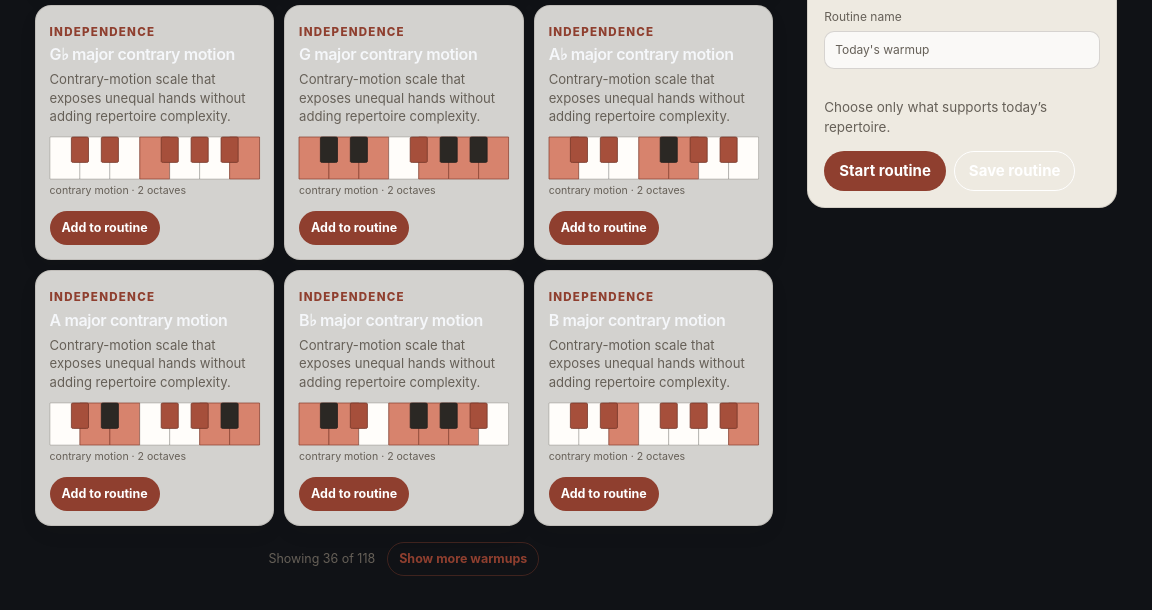
Test: WarmupsWorkspace › makes the complete catalog reachable without rendering every card at once
The image size is (1152, 610).
(page scrolled)
Click the button "Show more warmups": x=463, y=559 [387,542,539,576]
(page scrolled)
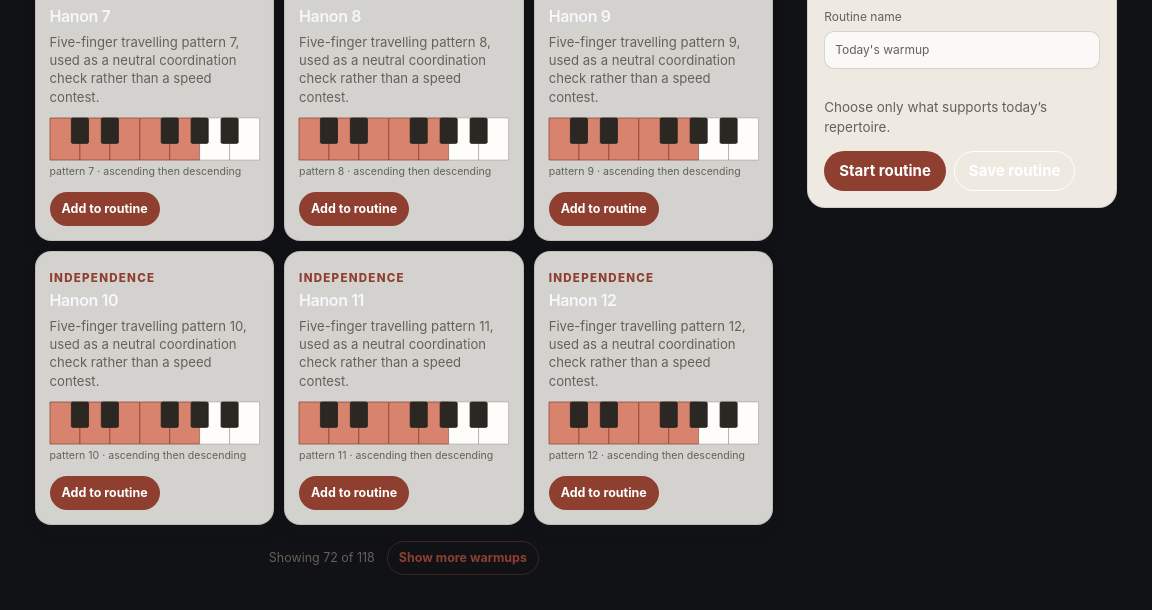
Click the button "Show more warmups": x=463, y=558 [387,541,539,575]
(page scrolled)
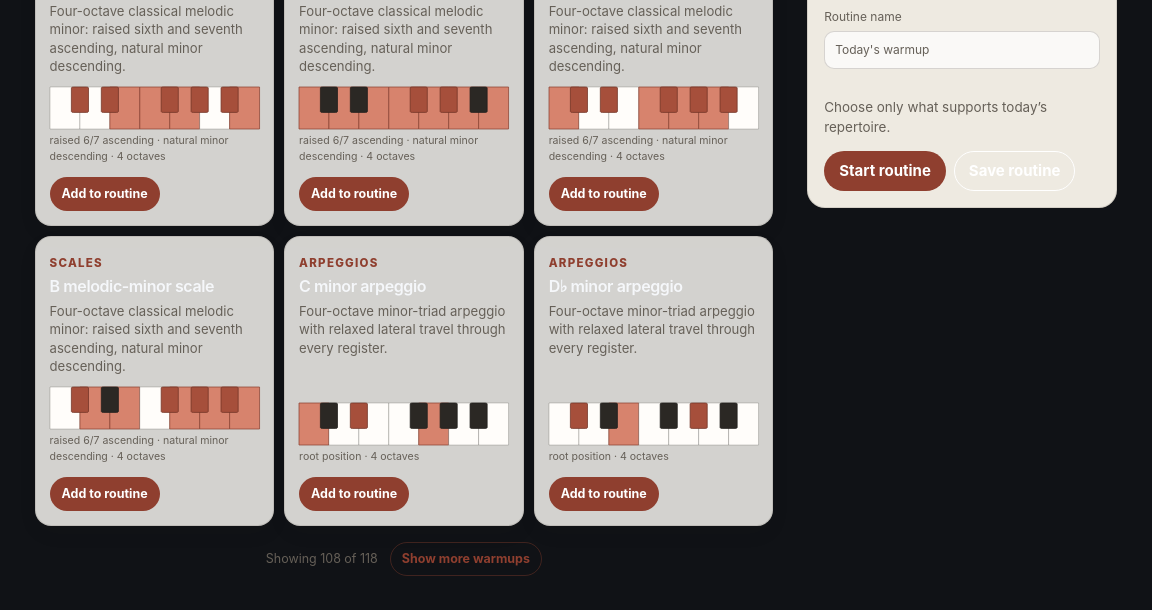
Click the button "Show more warmups": x=466, y=559 [390,542,542,576]
(page scrolled)
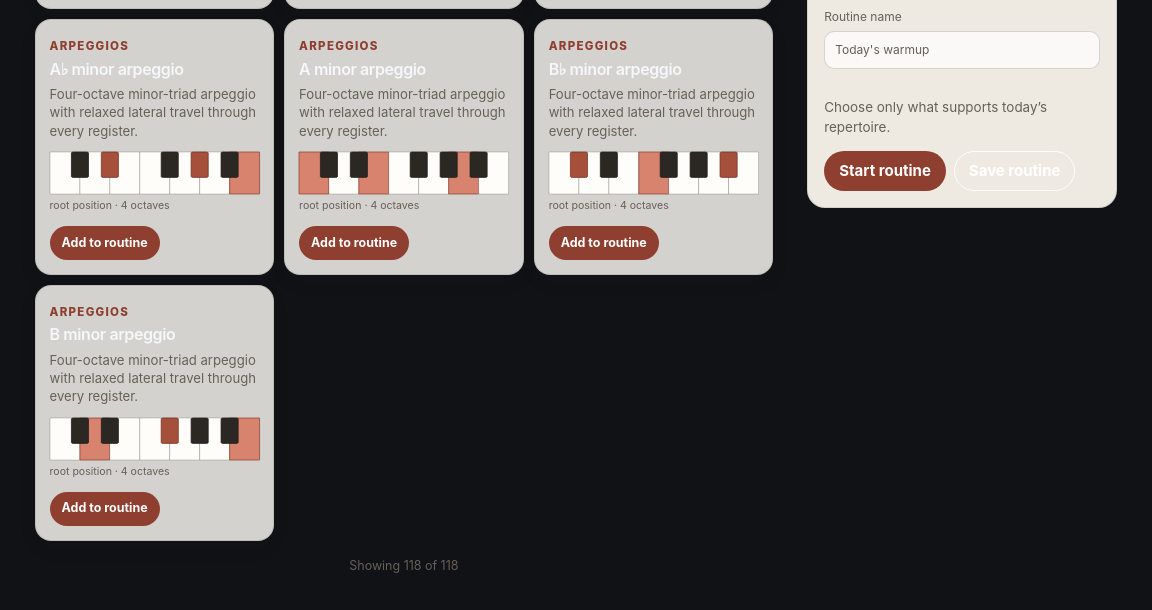
Expected: the heading "B minor arpeggio" is shown, [50,324,175,344]
Expected: the button "Show more warmups" is gone
